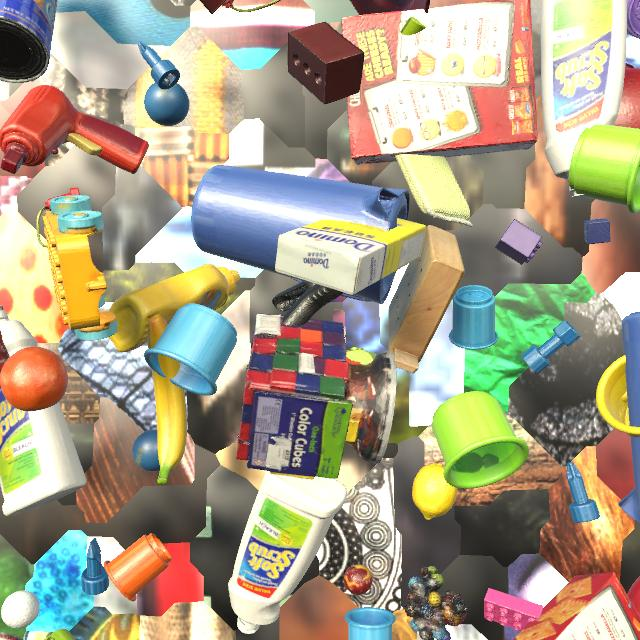ycb_002_master_chef_can: (0, 0, 58, 83)
ycb_003_cracker_box: (341, 0, 538, 165), (513, 572, 640, 640)
ycb_004_sugar_box: (275, 218, 426, 295)
ycb_005_tomato_soup_can: (0, 632, 23, 640)
ycb_006_mustard_bottle: (108, 263, 240, 352)
ycb_009_gelatin_box: (0, 331, 10, 388)
ycb_011_banana: (147, 314, 187, 485)
ycb_013_apple: (627, 576, 640, 616)
ycb_014_lemon: (412, 463, 457, 520)
ycb_017_orange: (0, 346, 68, 411)
